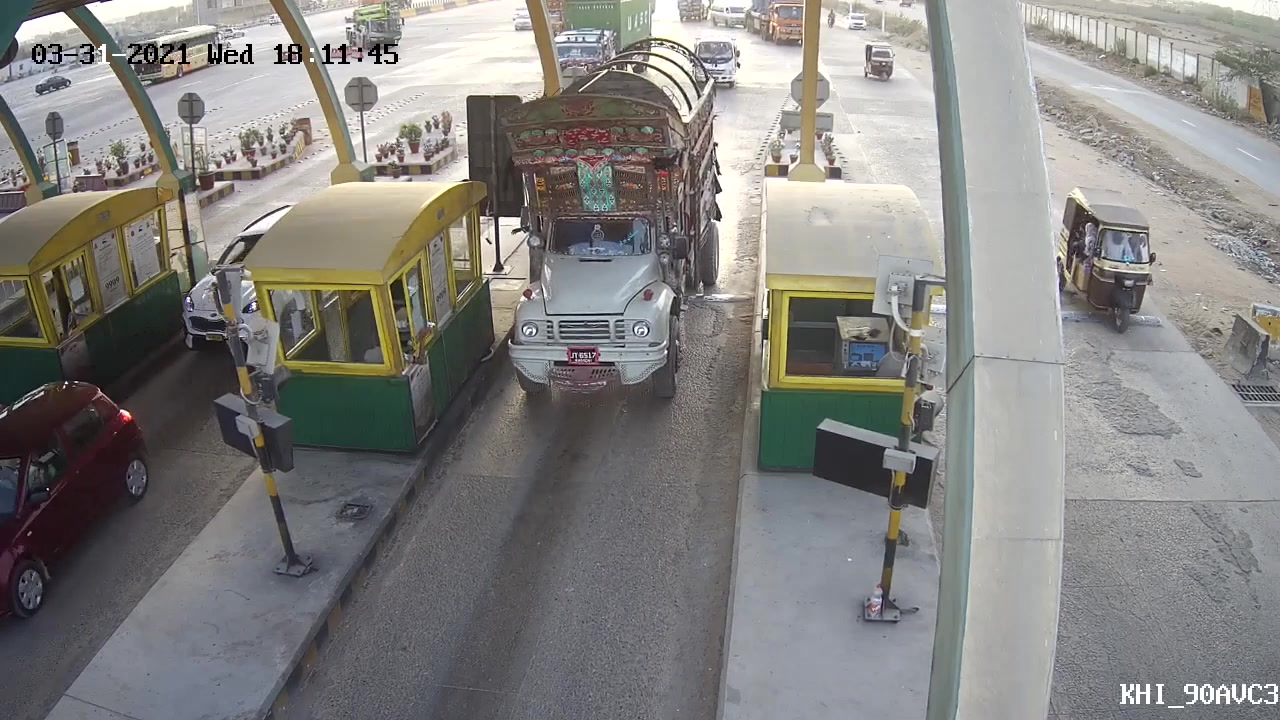F5: (496, 79, 715, 422)
